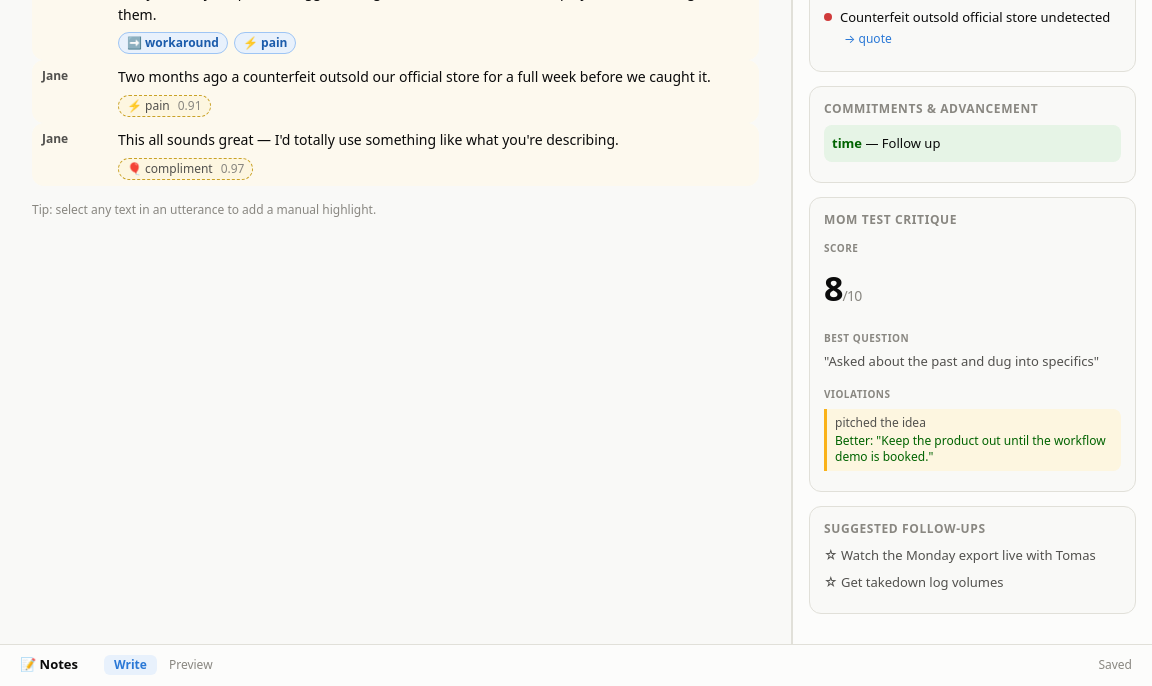
Test: T17 — Safe Markdown preview › markdown preview does not execute script tags (XSS safe)
The width and height of the screenshot is (1152, 686).
(page scrolled)
Click the text "📝 Notes": x=49, y=665 [20,654,78,675]
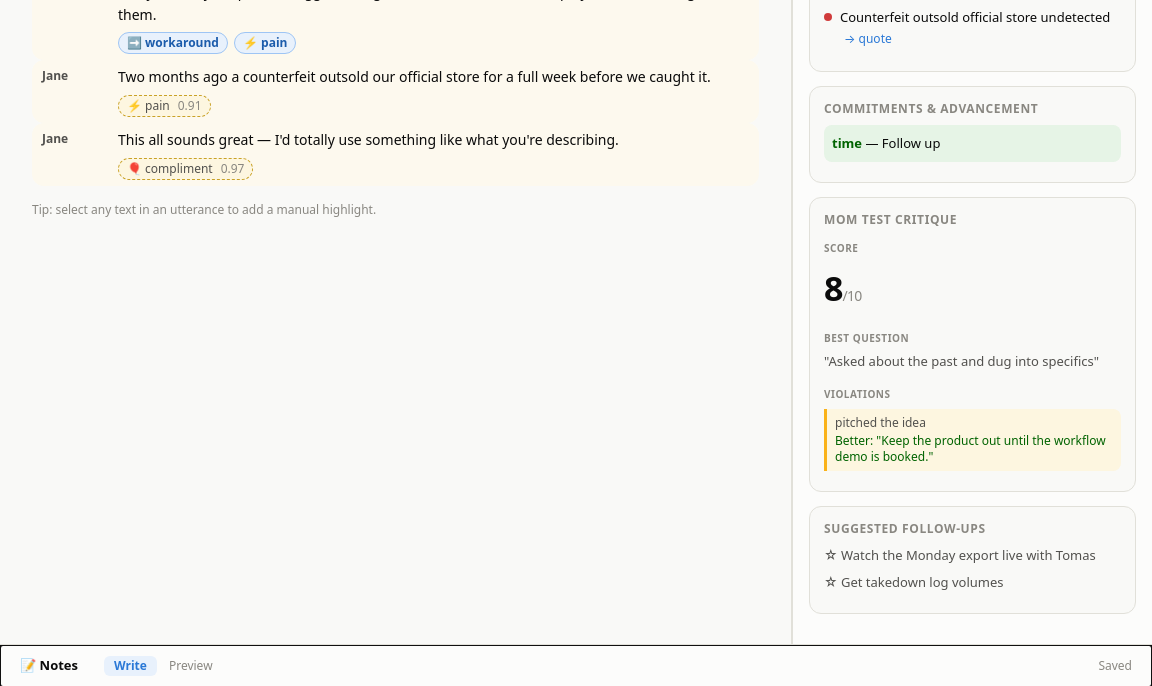
Click the button "Preview": x=191, y=666 [159,656,223,676]
(page scrolled)
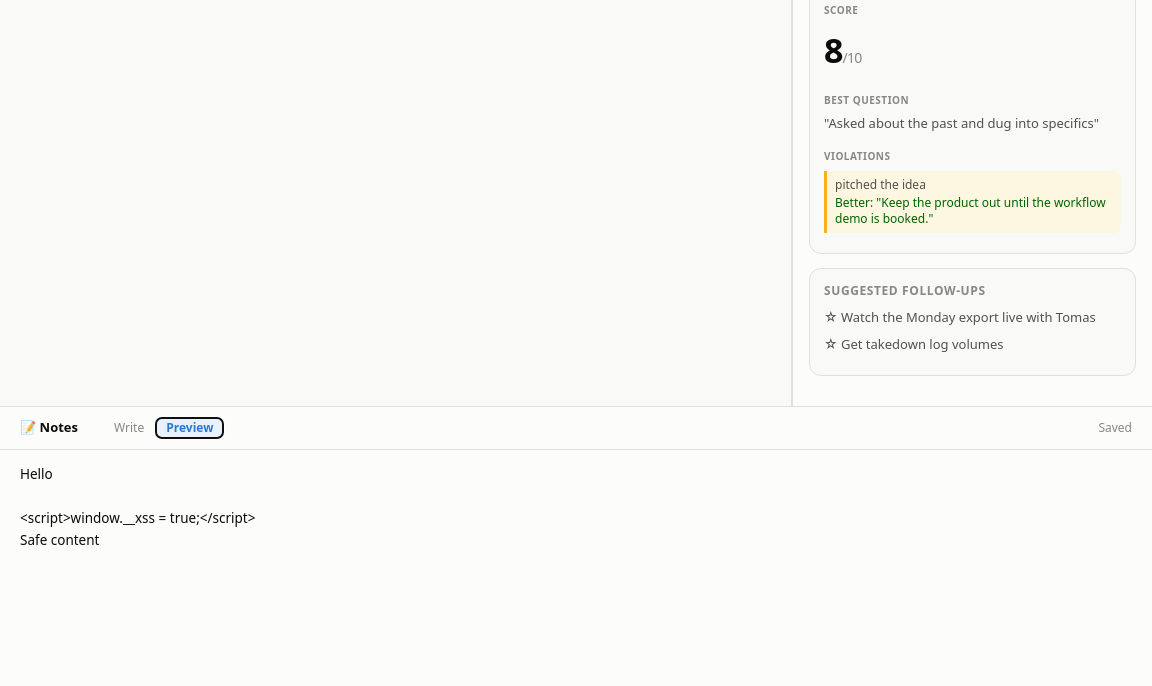
Now the text "Safe content" is shown, box [20,531,100,549]
Now the heading "Hello" is shown, box [20,465,53,483]
